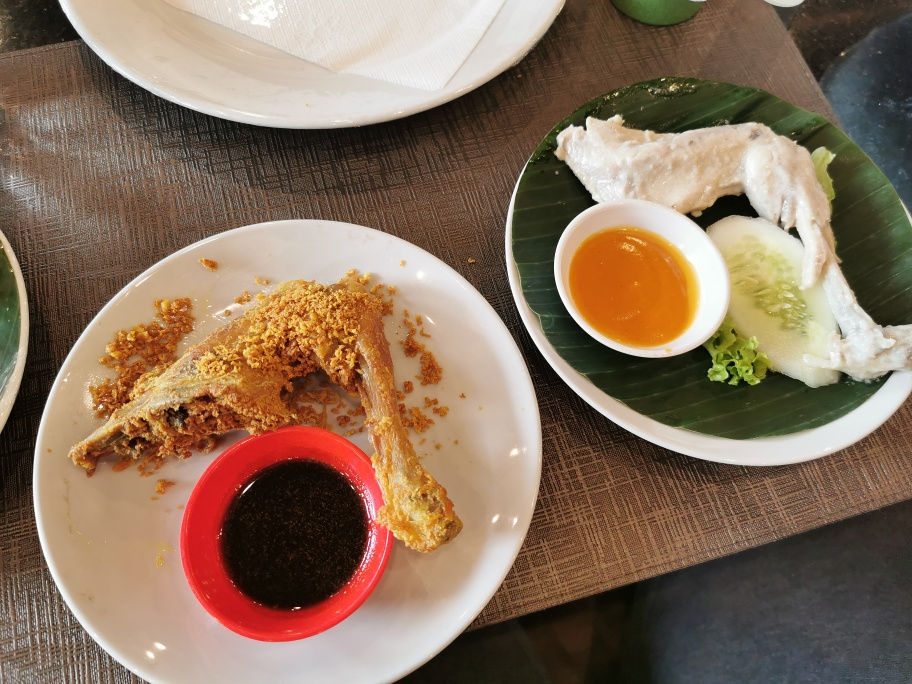ayam goreng: (64, 277, 452, 555)
ayam pop: (553, 112, 911, 376)
extra: (559, 198, 837, 392)
kecap: (177, 426, 390, 625)
